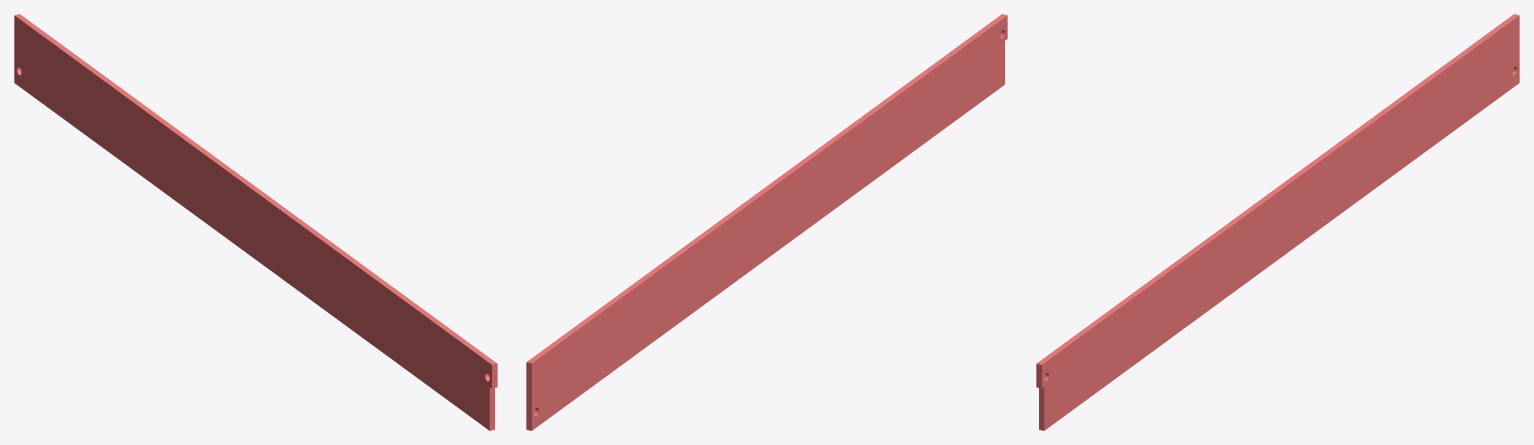
Rendered from BATTERY MODULE V1__SPINE M.glb.
3 renders of one model, left to right at view 1: azimuth 30°, elevation 25°; view 2: azimuth 150°, elevation 25°; view 3: azimuth 330°, elevation 25°, orthographic.
Parts seen in each view (by area): view 1: SPINE M; view 2: SPINE M; view 3: SPINE M.
Part boxes in pixels (left/top/right/bottom): SPINE M: left=14, top=14, right=497, bottom=430; SPINE M: left=526, top=14, right=1007, bottom=430; SPINE M: left=1036, top=14, right=1519, bottom=430.
Bounding box in the file's own units: 0.00636 × 0.0762 × 0.9738.
